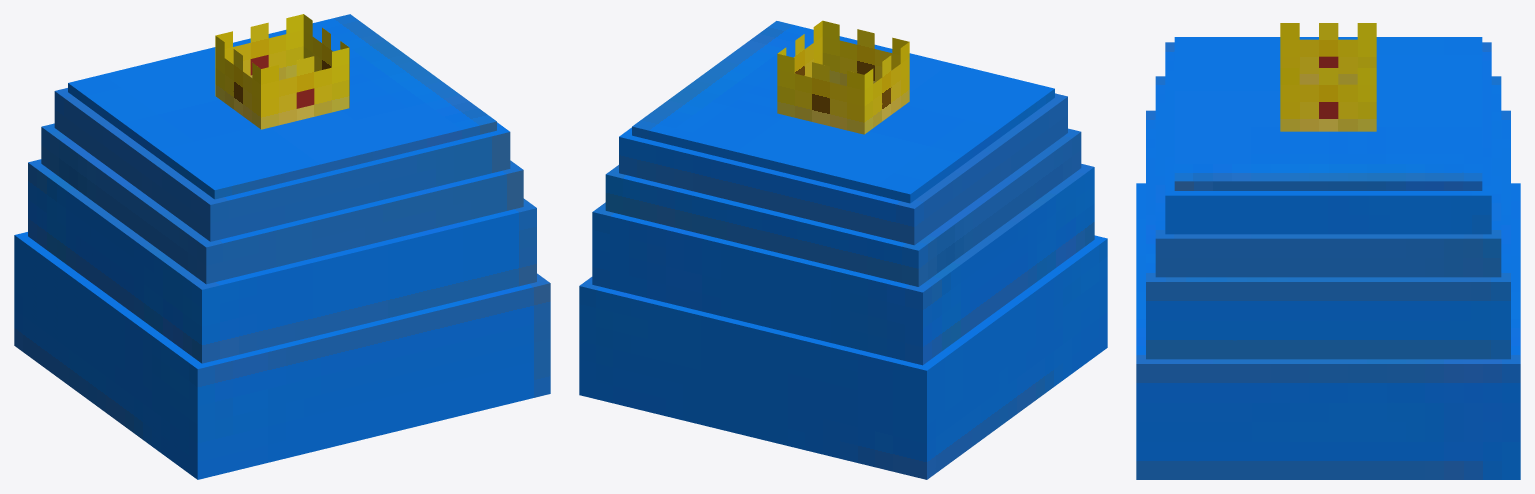
The model's file is terraria-transformed.glb.
3 views of the same model, side by side, from view 1: azimuth 30°, elevation 25°; view 2: azimuth 150°, elevation 25°; view 3: azimuth 270°, elevation 25° (orthographic). The views are drawn at different scales.
Visible parts, largest first — view 1: terraria; view 2: terraria; view 3: terraria.
Part boxes in pixels (x1=…): terraria: x1=14, y1=14, x2=550, y2=479; terraria: x1=579, y1=20, x2=1107, y2=479; terraria: x1=1136, y1=23, x2=1520, y2=479.
Size of the model in its own units: 9.42 by 8.38 by 8.48.
1 material, 1 textured.
